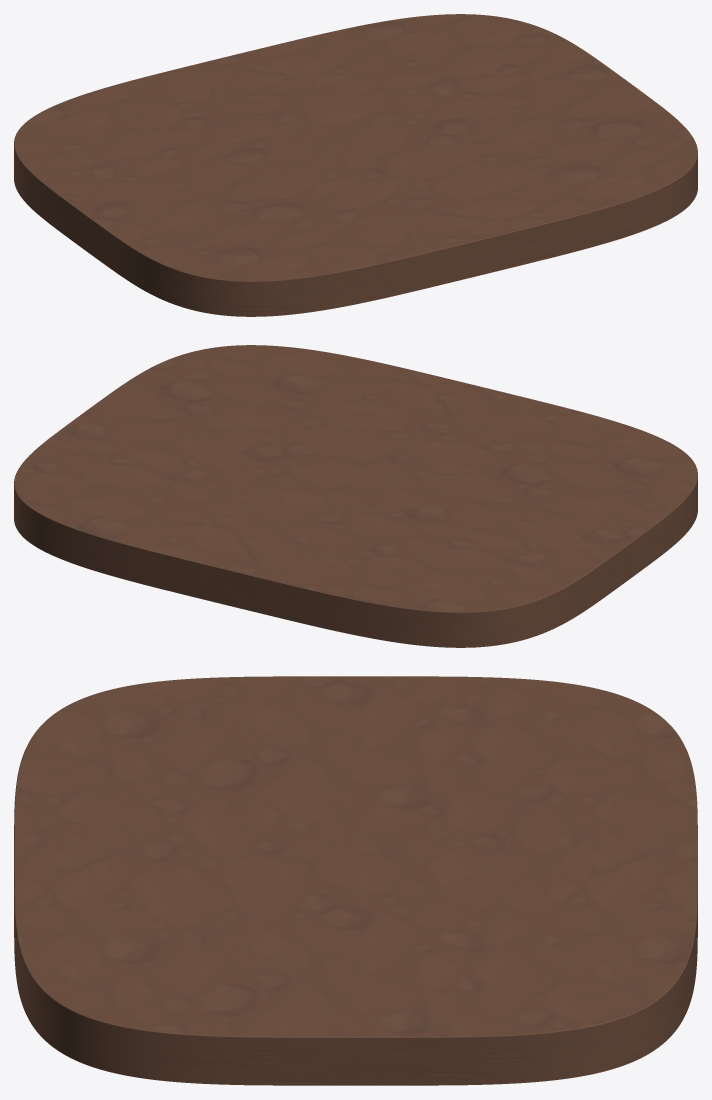
The model's file is starter-20.glb.
The picture shows the model from 3 angles, top to bottom: view 1: azimuth 30°, elevation 25°; view 2: azimuth 150°, elevation 25°; view 3: azimuth 270°, elevation 25°; orthographic projection. The views are drawn at different scales.
Parts seen in each view (by area): view 1: geometry_0; view 2: geometry_0; view 3: geometry_0.
Part boxes in pixels (x1,y1,x2,y2): geometry_0: [14, 14, 697, 316]; geometry_0: [14, 345, 697, 647]; geometry_0: [14, 676, 697, 1085].
Bounding box in the file's own units: 96.13 × 6 × 76.9.
Materials: 1 (1 with a texture image).
